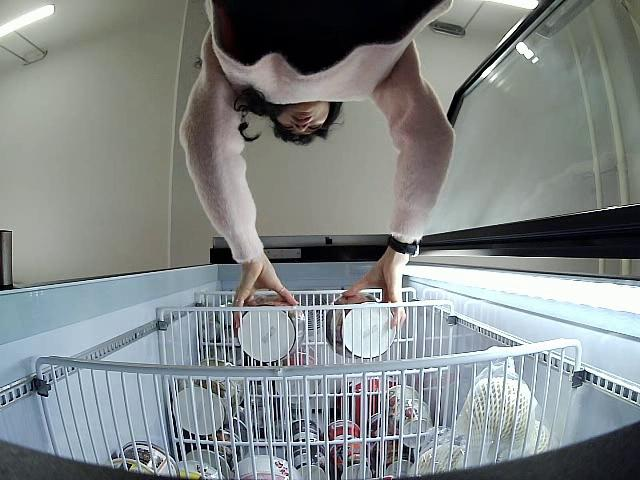00_hand: (233, 261, 299, 327), (341, 264, 407, 329)
05_nuguri_L: (324, 296, 396, 359), (239, 293, 305, 360)
